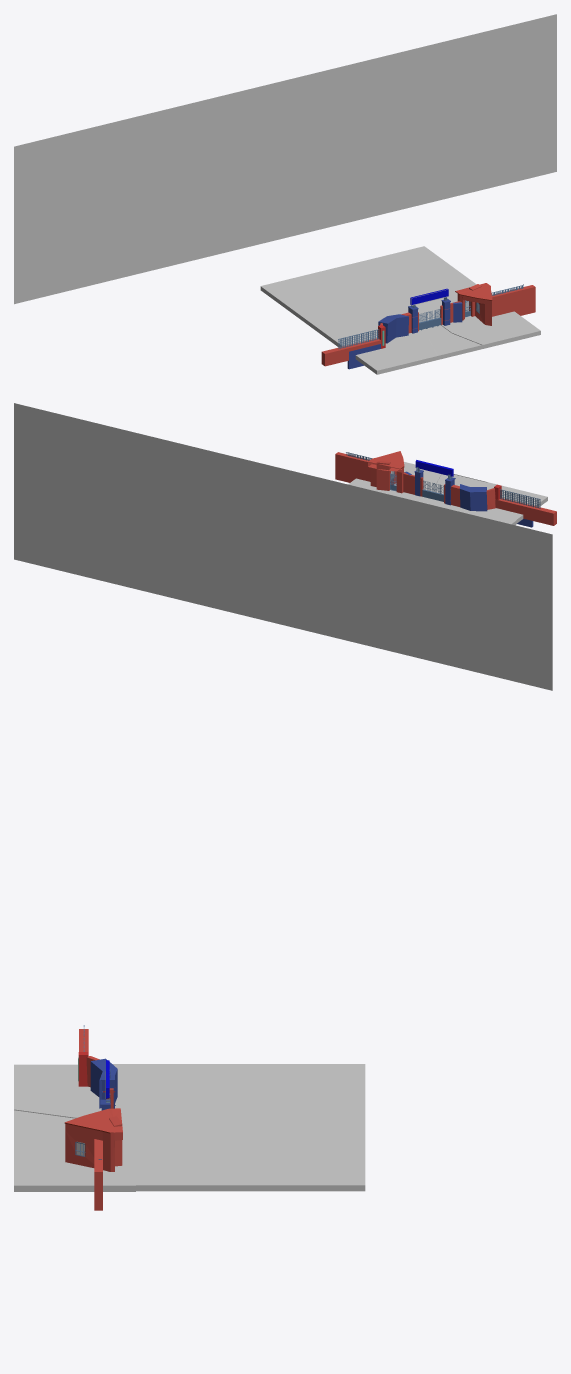
The model's file is truong.obj.
The picture shows the model from 3 angles, top to bottom: view 1: azimuth 30°, elevation 25°; view 2: azimuth 150°, elevation 25°; view 3: azimuth 270°, elevation 25°; orthographic projection. The views are drawn at different scales.
Parts seen in each view (by area): view 1: pexels-pixabay-531767, Cube.006, Cube, Cube.005, Cube.014, Cube.017, Cube.011; view 2: pexels-pixabay-531767, Cube, Cube.006, Cube.005, Cube.017, Cube.014, Cube.011, Cube.003, Cube.016, Cube.022; view 3: Cube.006, Cube, Cube.014.
Part boxes in pixels (x1,y1,x2,y2): pexels-pixabay-531767: (14,14,556,304); Cube.006: (260,246,476,347); Cube: (355,311,540,374); Cube.005: (492,285,535,316); Cube.014: (455,283,492,325); Cube.017: (321,338,380,366); Cube.011: (378,314,408,343); pexels-pixabay-531767: (14,403,552,690); Cube: (348,462,547,523); Cube.006: (349,480,516,525); Cube.005: (335,452,370,482); Cube.017: (495,498,556,525); Cube.014: (368,451,404,493); Cube.011: (459,484,487,511); Cube.003: (444,484,495,509); Cube.016: (500,489,540,508); Cube.022: (376,461,390,490); Cube.006: (111,1064,365,1191); Cube: (14,1064,135,1191); Cube.014: (64,1108,122,1171).
Bounding box in the file's own units: 196 × 54.46 × 112.
